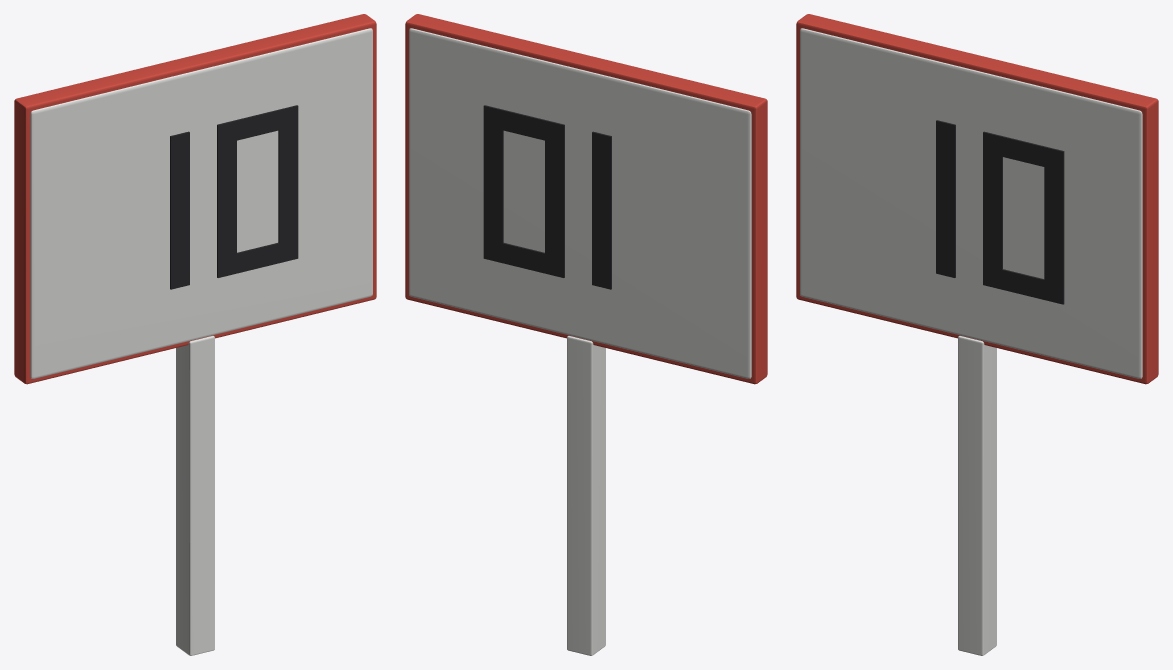
Rendered from yard_board_10.glb.
The picture shows the model from 3 angles, left to right: view 1: azimuth 30°, elevation 25°; view 2: azimuth 150°, elevation 25°; view 3: azimuth 330°, elevation 25°; orthographic projection.
Parts seen in each view (by area): view 1: SM_yard_board_10; view 2: SM_yard_board_10; view 3: SM_yard_board_10.
Boxes of the visible parts, <box> form: SM_yard_board_10: <box>14,14,376,655</box>; SM_yard_board_10: <box>405,14,767,655</box>; SM_yard_board_10: <box>796,14,1158,655</box>.
Size of the model in its own units: 0.82 by 1.31 by 0.068.
